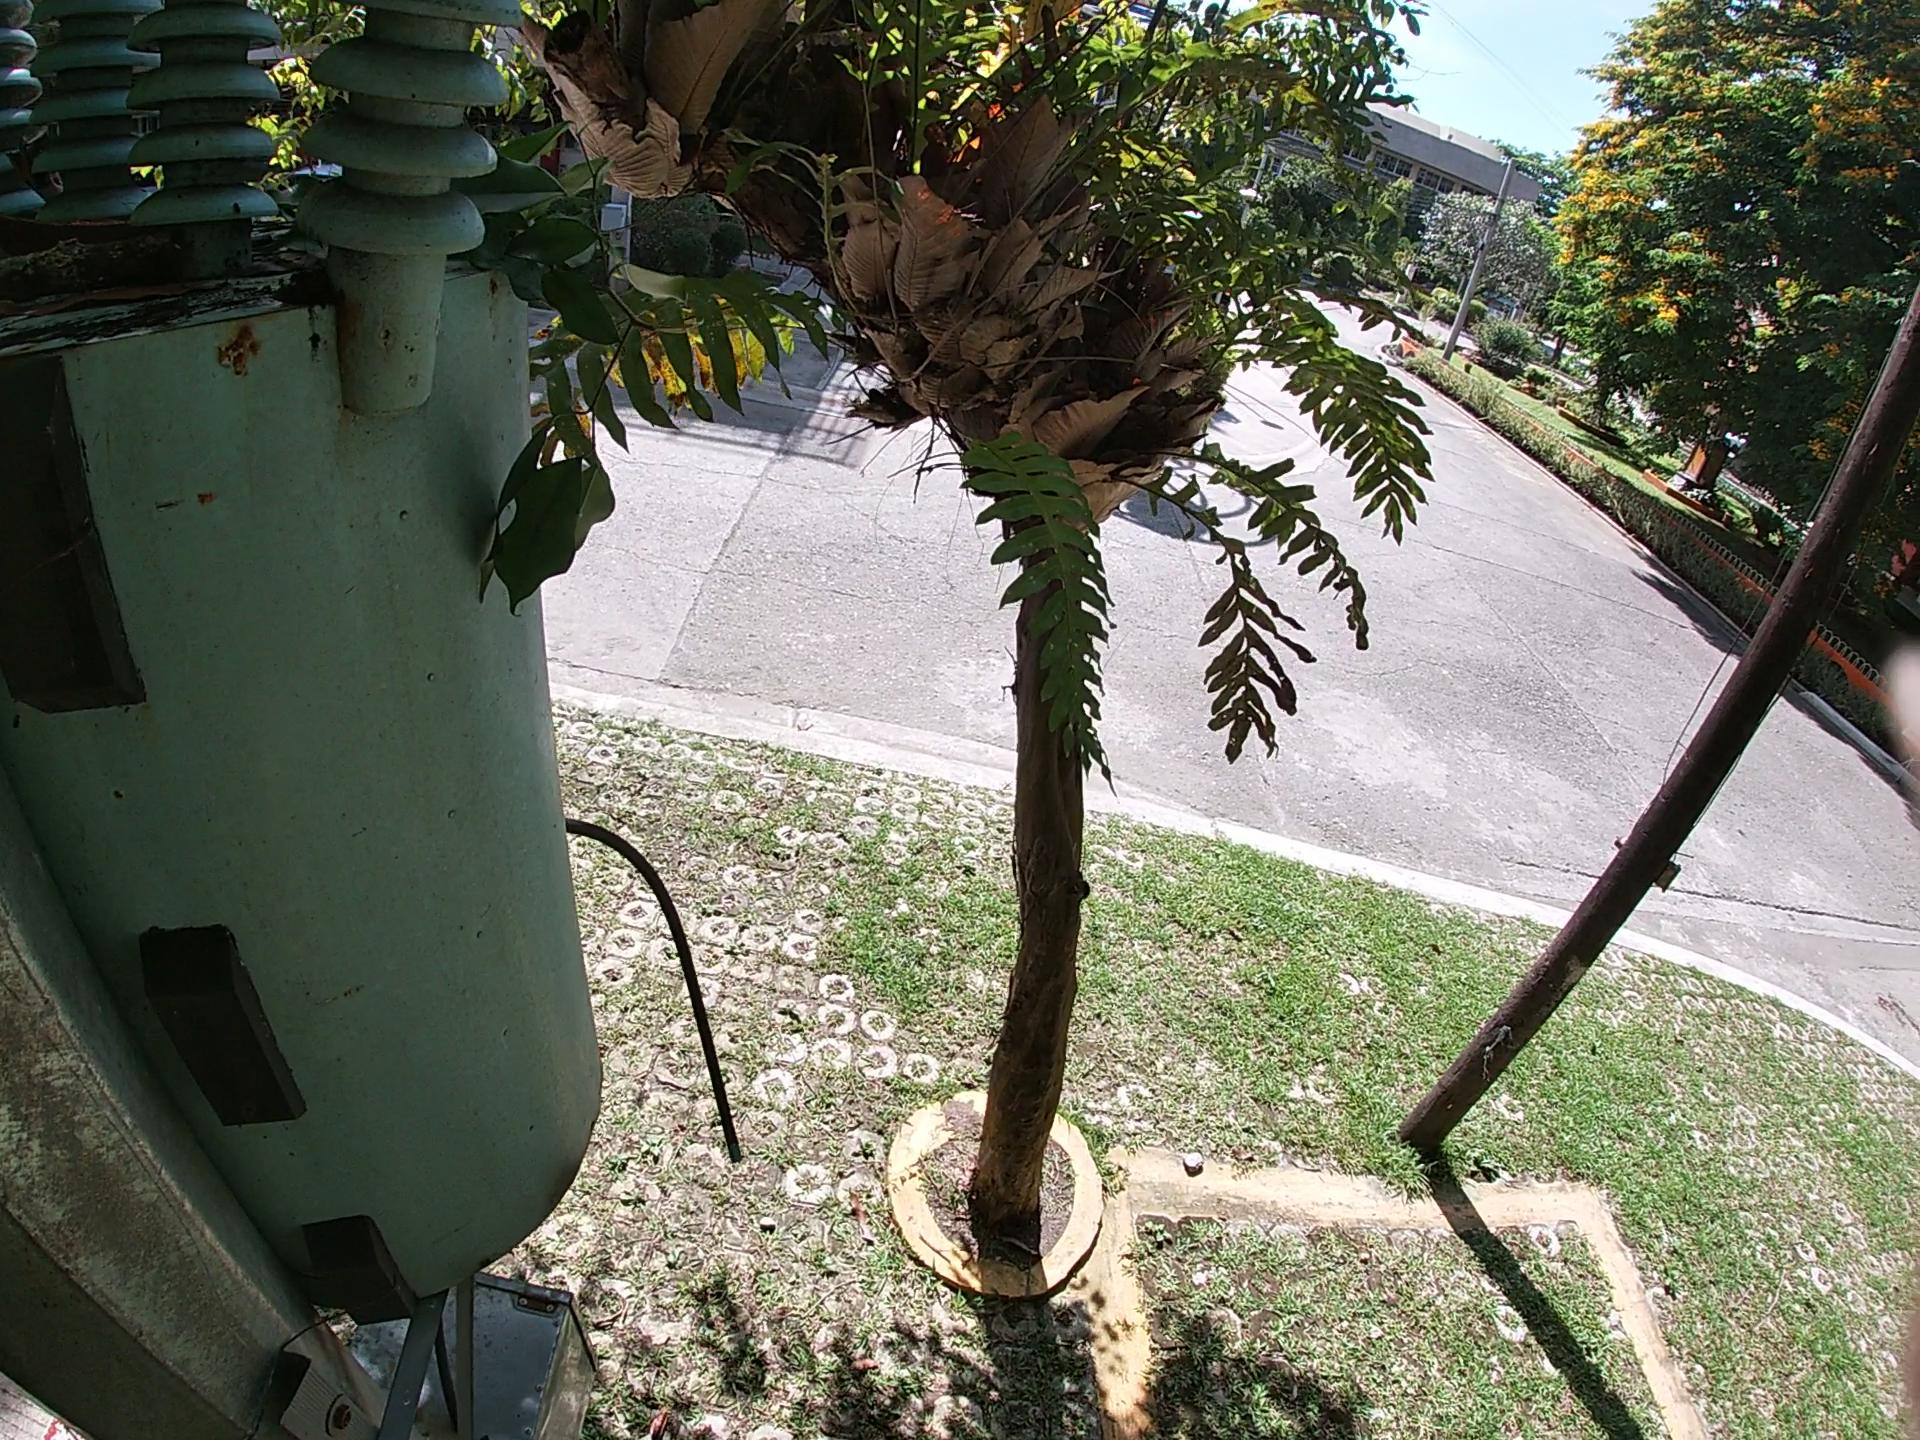branch with leaves: (441, 116, 683, 637)
leaf: (30, 277, 200, 316)
mahogany fruit: (33, 195, 172, 237)
tree branch: (2, 234, 160, 265)
